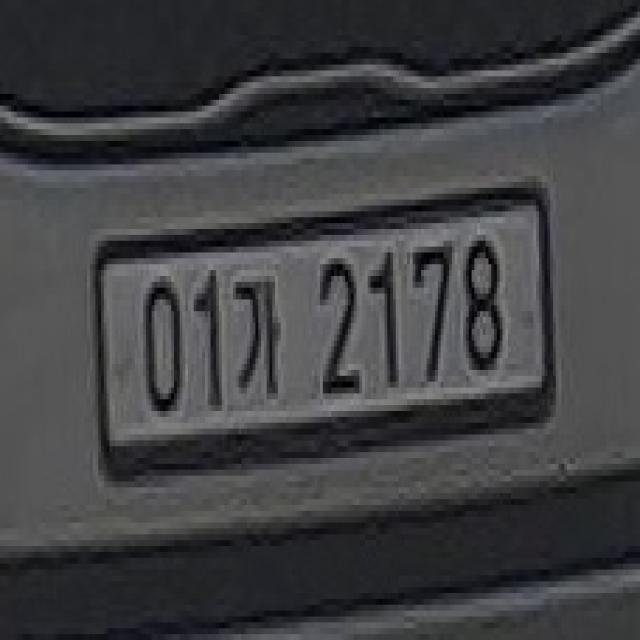0: (140, 268, 184, 418)
1: (366, 240, 406, 394), (192, 266, 224, 416)
2: (312, 246, 364, 402)
7: (412, 228, 456, 396)
8: (459, 224, 506, 382)
ga: (231, 264, 284, 412)
license_plate: (65, 170, 562, 474)
